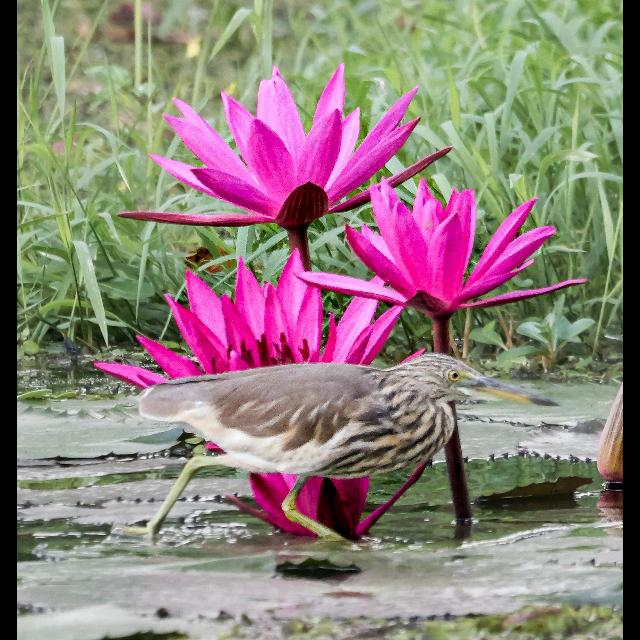heron: (130, 353, 564, 549)
